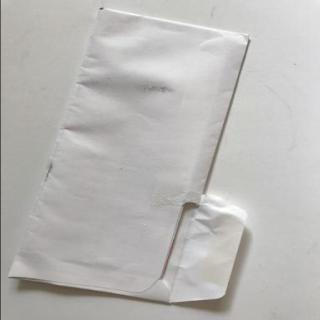Anorganik: (8, 8, 255, 304)
